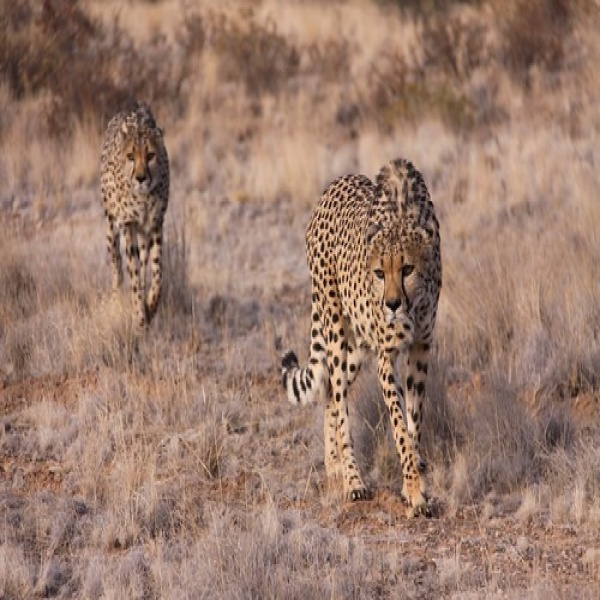Cheetah: (277, 154, 456, 518), (94, 104, 177, 336)
